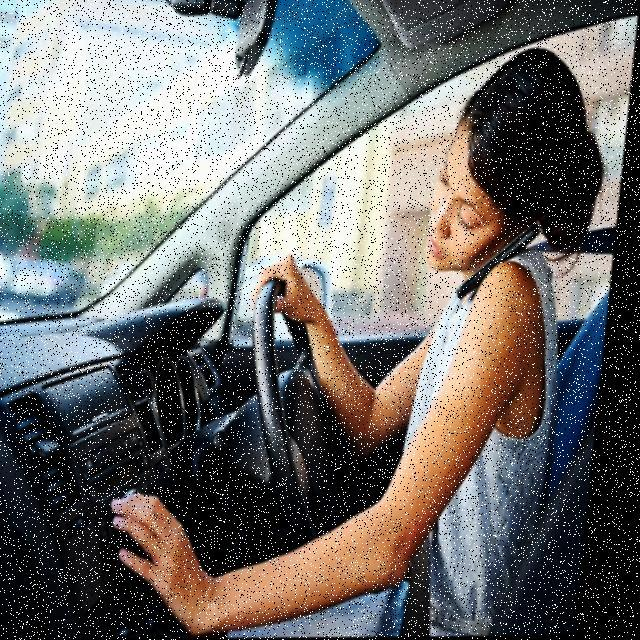seatbelt: (392, 212, 622, 638)
